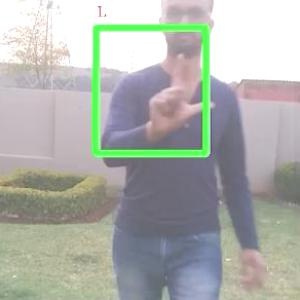land_hand: (145, 46, 221, 133)
